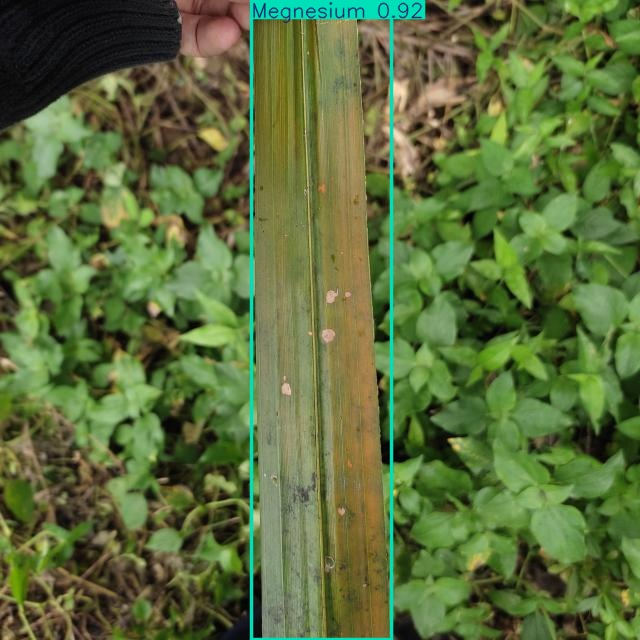Megnesium: (251, 0, 392, 640)
